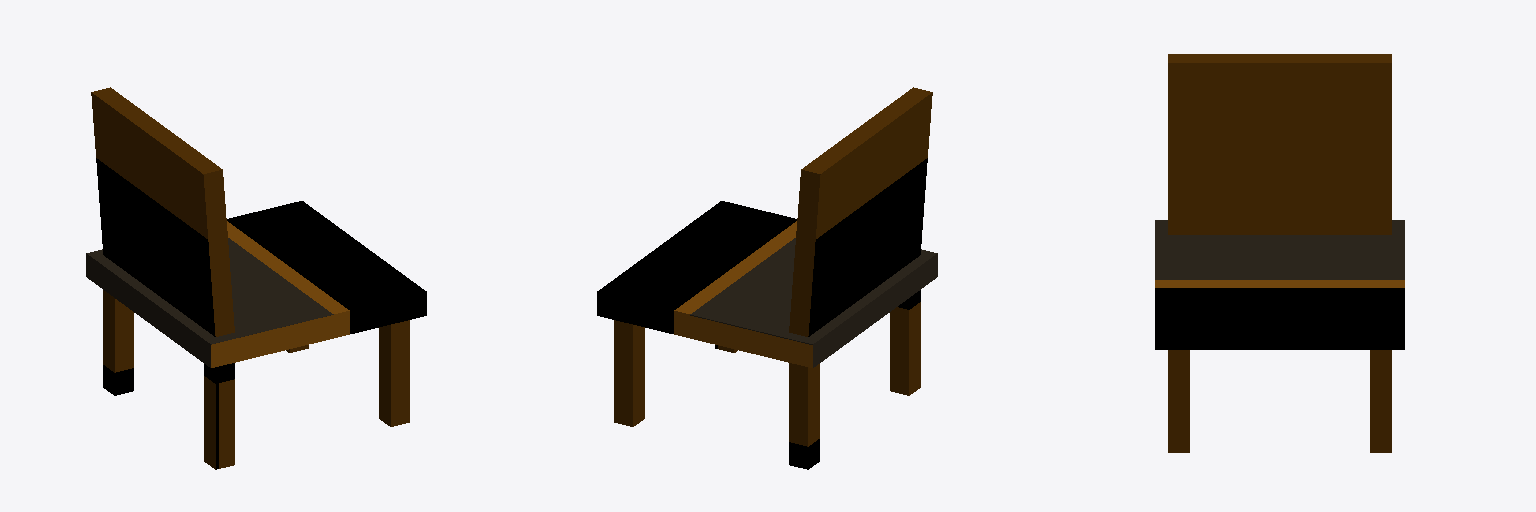
3 views of the same model, side by side, from view 1: azimuth 30°, elevation 25°; view 2: azimuth 150°, elevation 25°; view 3: azimuth 270°, elevation 25° (orthographic).
Visible parts, largest first — view 1: pCube2; view 2: pCube2; view 3: pCube2.
Boxes of the visible parts, x1,y1,x2,y2 form: pCube2: [86, 87, 426, 469]; pCube2: [597, 87, 937, 469]; pCube2: [1155, 54, 1404, 452].
Size of the model in its own units: 1.01 by 1.32 by 1.
Materials: 1 (1 with a texture image).